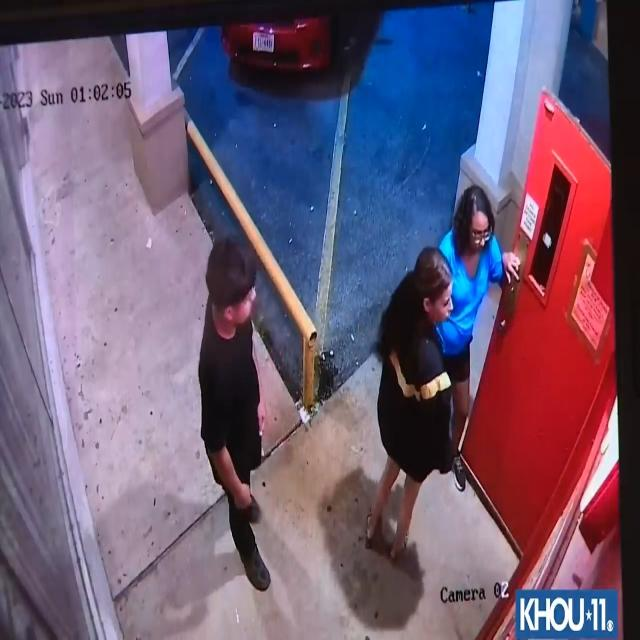Person: (182, 227, 278, 595), (355, 239, 447, 564), (436, 182, 520, 499)
